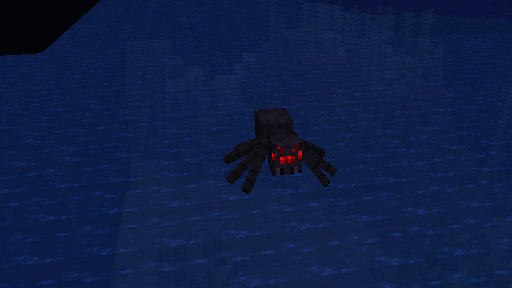spider: (222, 107, 337, 193)
